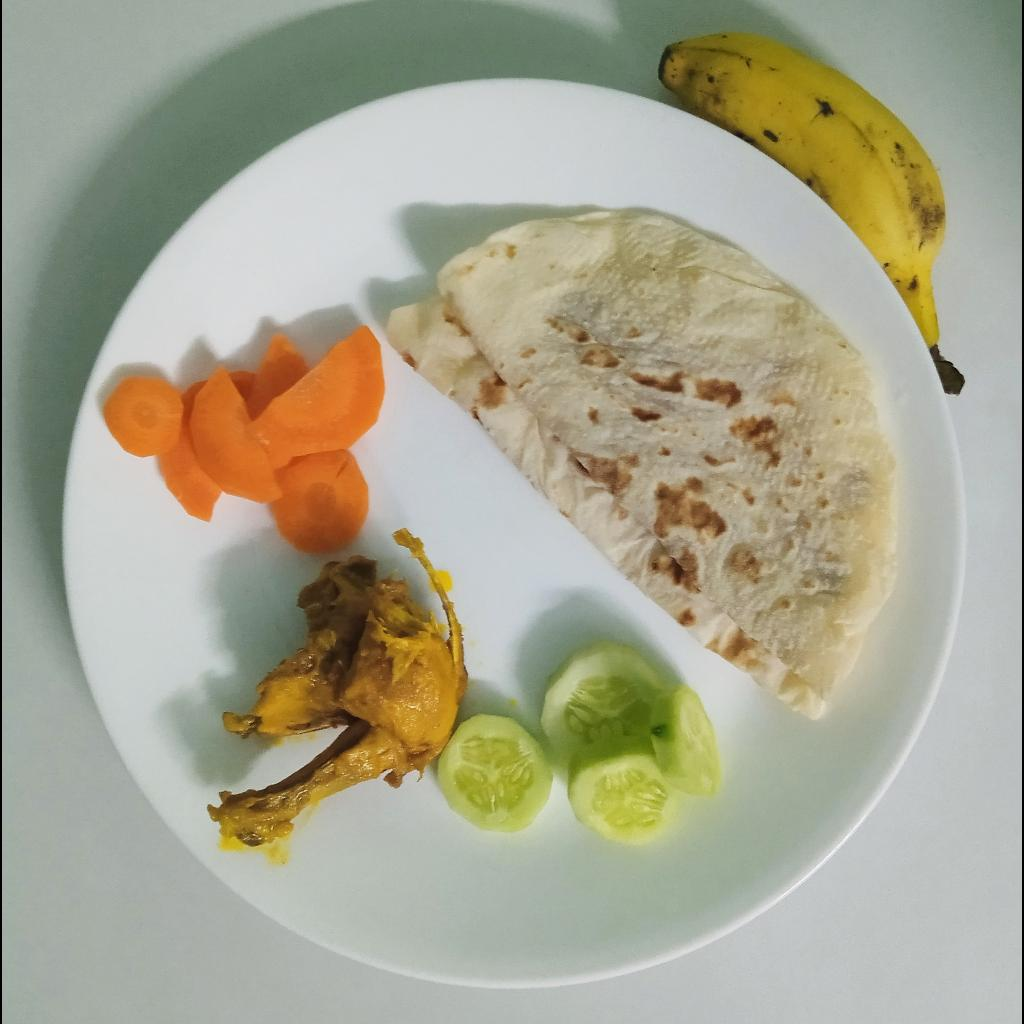banana: (654, 31, 967, 399)
carrot: (96, 320, 387, 553)
chicken: (203, 527, 472, 850)
cucumber: (439, 642, 729, 843)
ruti: (385, 210, 912, 729)
